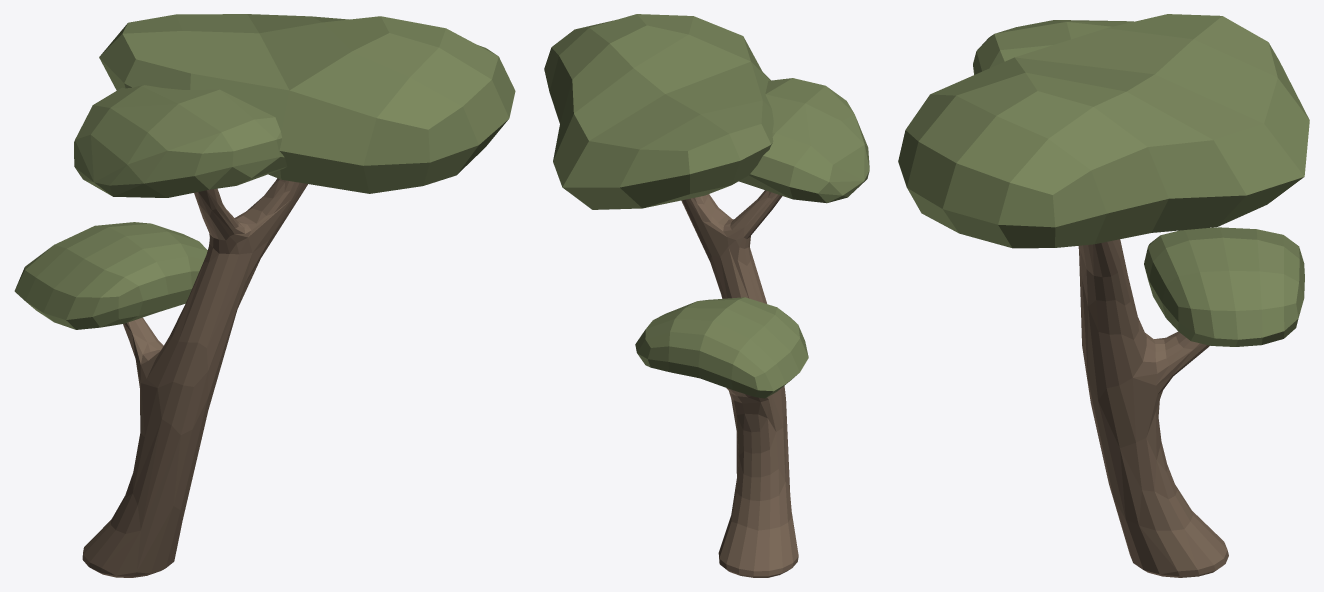
Rendered from tree-11.fbx.
3 views of the same model, side by side, from view 1: azimuth 30°, elevation 25°; view 2: azimuth 150°, elevation 25°; view 3: azimuth 270°, elevation 25° (orthographic). The views are drawn at different scales.
Visible parts, largest first — view 1: Cube.050, Cube.043, Cube.049, Cube.048; view 2: Cube.050, Cube.043, Cube.048, Cube.049; view 3: Cube.050, Cube.043, Cube.048, Cube.049.
Part boxes in pixels (box(x1,y1,x2,y2)): Cube.050: box(99, 14, 515, 193); Cube.043: box(82, 178, 307, 577); Cube.049: box(74, 85, 286, 197); Cube.048: box(14, 222, 207, 329); Cube.050: box(544, 14, 773, 209); Cube.043: box(681, 190, 798, 577); Cube.048: box(635, 297, 808, 398); Cube.049: box(739, 78, 869, 203); Cube.050: box(898, 14, 1309, 248); Cube.043: box(1078, 239, 1228, 577); Cube.048: box(1144, 227, 1304, 346); Cube.049: box(973, 20, 1133, 74).
Bounding box in the file's own units: 1399 × 1848 × 1198.
